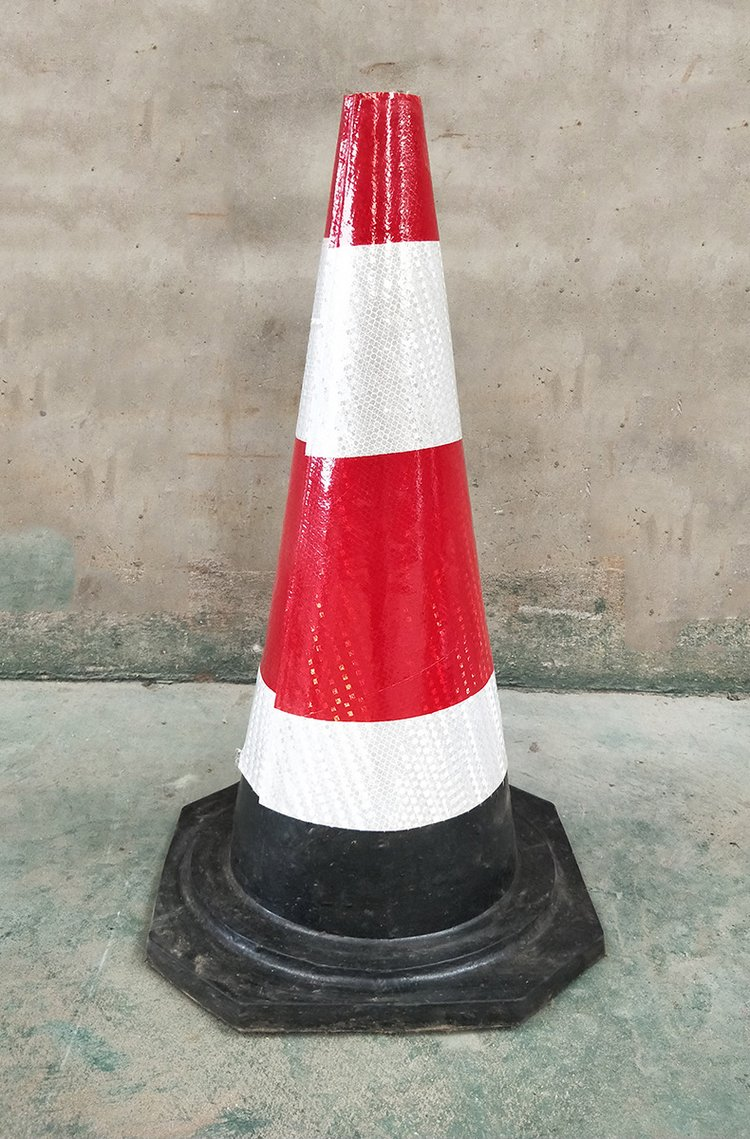traffic_cone: (118, 89, 614, 1058)
